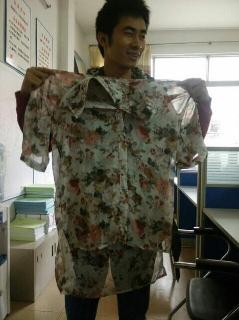long sleeve outwear: (20, 68, 209, 298)
